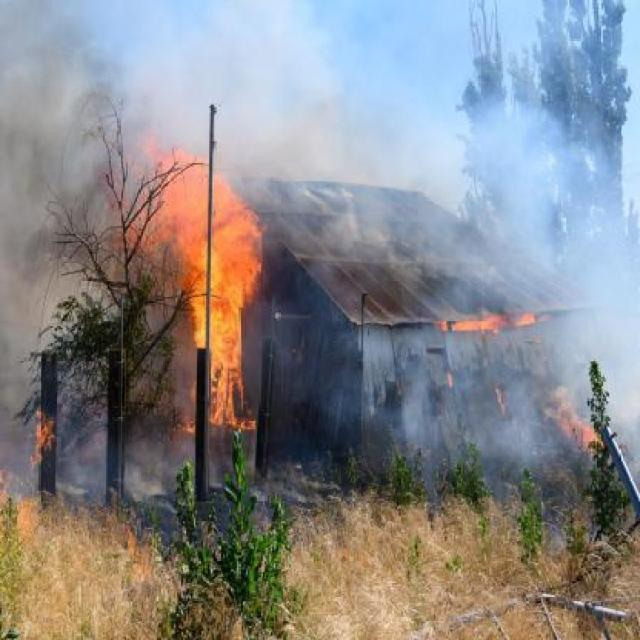Fire: (138, 131, 266, 434), (22, 389, 70, 460)
Smoke: (355, 98, 640, 534), (0, 0, 122, 363), (40, 382, 202, 520)
